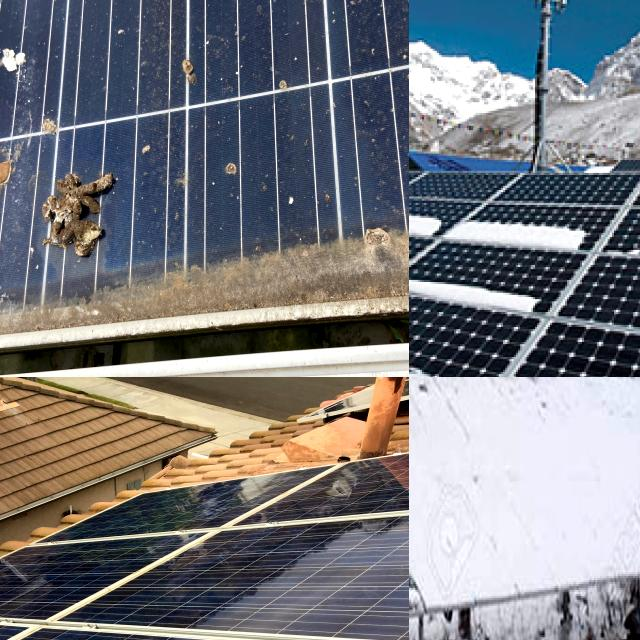bird: (123, 0, 215, 122), (336, 141, 409, 249), (242, 170, 306, 264), (168, 237, 223, 298), (249, 0, 303, 41), (333, 0, 383, 31), (371, 343, 409, 377), (188, 0, 230, 19), (288, 0, 345, 9)
crack: (228, 549, 409, 623)
panel: (409, 490, 530, 596), (441, 202, 592, 278), (409, 483, 475, 635), (519, 377, 608, 487), (417, 377, 509, 478), (409, 258, 544, 319), (409, 377, 486, 478), (540, 496, 613, 576), (409, 377, 462, 475), (409, 325, 495, 377), (618, 377, 640, 564), (409, 219, 460, 295), (409, 191, 461, 243), (409, 174, 437, 265), (409, 555, 439, 632), (591, 233, 640, 269), (409, 566, 432, 618), (409, 318, 444, 348)
